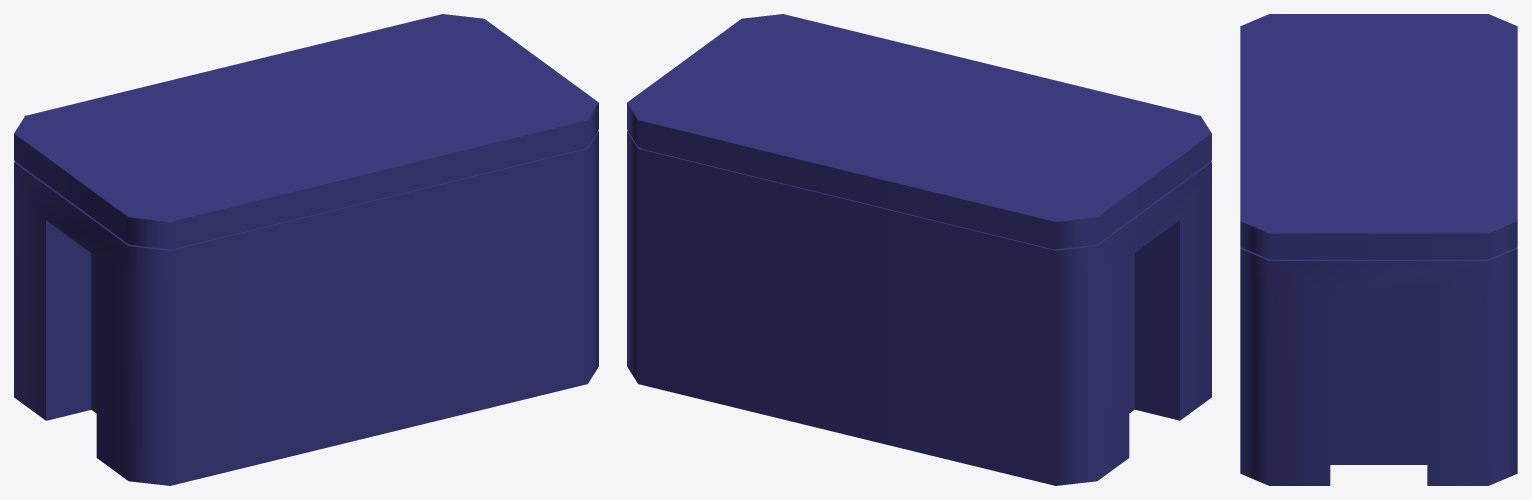
Rendered from cajas_random.fbx.
3 renders of one model, left to right at view 1: azimuth 30°, elevation 25°; view 2: azimuth 150°, elevation 25°; view 3: azimuth 270°, elevation 25°, orthographic. The views are drawn at different scales.
Parts seen in each view (by area): view 1: Caja; view 2: Caja; view 3: Caja.
Boxes of the visible parts, x1,y1,x2,y2 form: Caja: (14, 14, 598, 485); Caja: (627, 14, 1211, 485); Caja: (1240, 14, 1517, 485).
Size of the model in its own units: 1.87 by 1 by 1.
